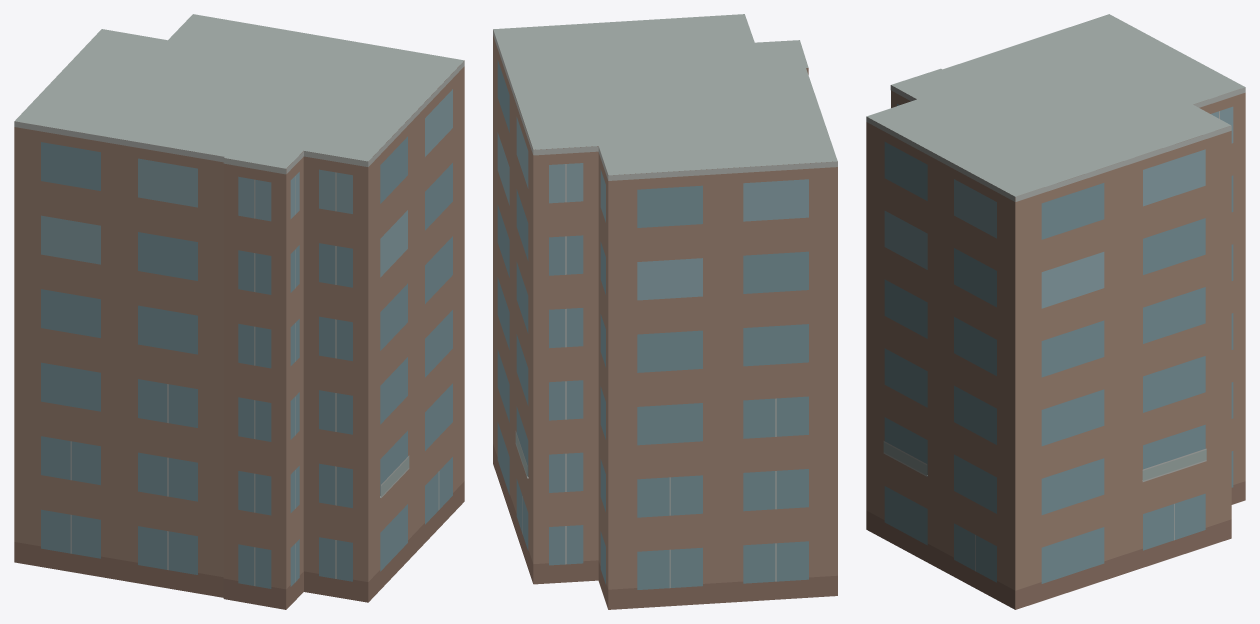
The model's file is survey-upis-32600323.glb.
3 renders of one model, left to right at view 1: azimuth 30°, elevation 25°; view 2: azimuth 150°, elevation 25°; view 3: azimuth 270°, elevation 25°, orthographic. The views are drawn at different scales.
Visible parts, largest first — view 1: survey-upis-32600323.tmp; view 2: survey-upis-32600323.tmp; view 3: survey-upis-32600323.tmp.
Part boxes in pixels (box(x1,y1,x2,y2)): survey-upis-32600323.tmp: box(14, 14, 464, 609); survey-upis-32600323.tmp: box(493, 14, 837, 609); survey-upis-32600323.tmp: box(866, 14, 1245, 609).
Bounding box in the file's own units: 17.95 × 18.9 × 15.74.
